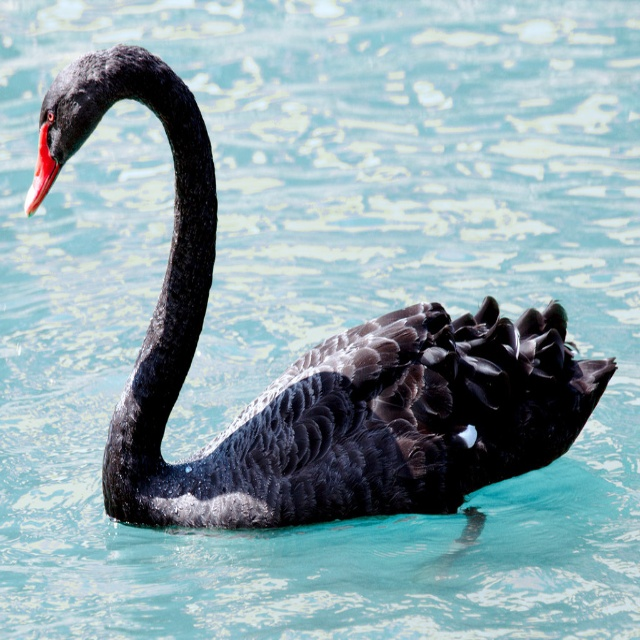Swan: (24, 44, 618, 529)
